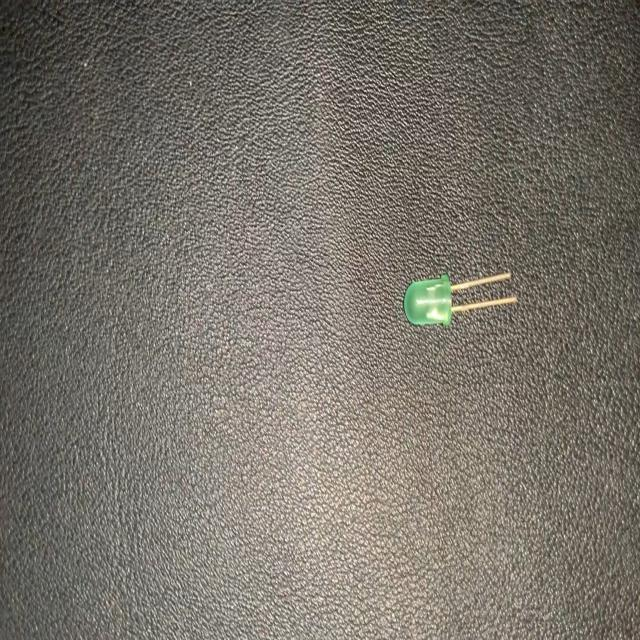LED: (404, 270, 518, 334)
